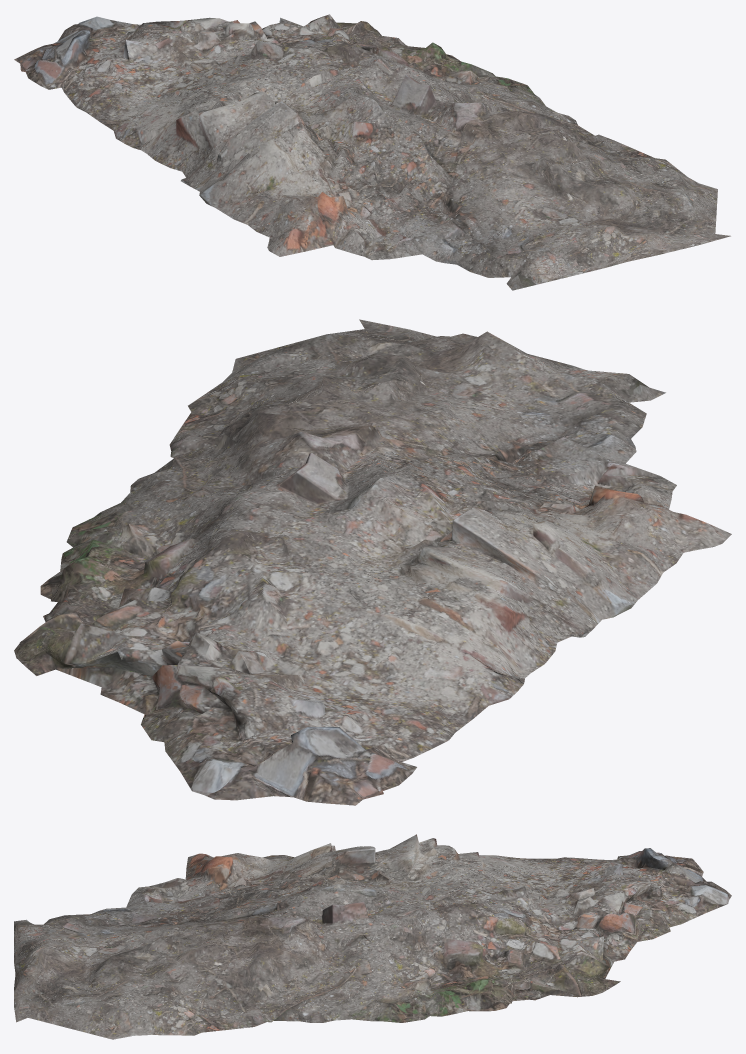
File: SM_Stairs_01_16.fbx
The picture shows the model from 3 angles, top to bottom: view 1: azimuth 30°, elevation 25°; view 2: azimuth 150°, elevation 25°; view 3: azimuth 270°, elevation 25°; orthographic projection. The views are drawn at different scales.
Parts seen in each view (by area): view 1: sm_Stairs_01_16_LOD0; view 2: sm_Stairs_01_16_LOD0; view 3: sm_Stairs_01_16_LOD0.
Boxes of the visible parts, x1,y1,x2,y2 form: sm_Stairs_01_16_LOD0: [14, 14, 730, 290]; sm_Stairs_01_16_LOD0: [14, 319, 731, 805]; sm_Stairs_01_16_LOD0: [14, 834, 731, 1039].
Bounding box in the file's own units: 321 × 196 × 28.29.
